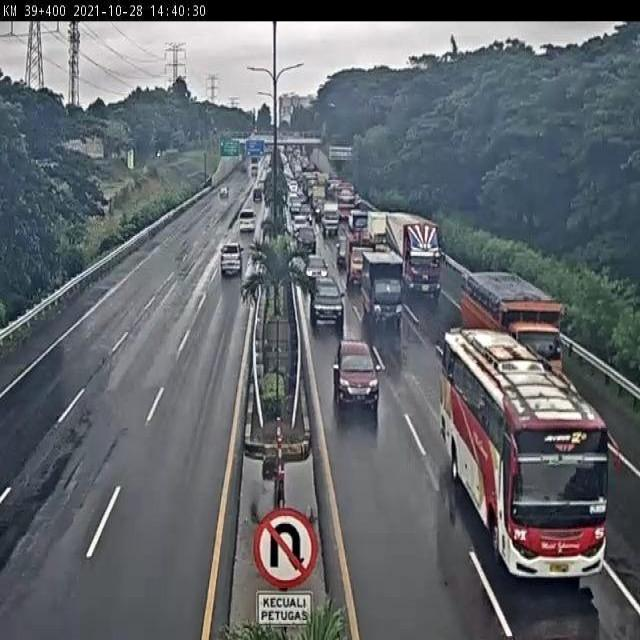big bus: (439, 321, 616, 588)
big truck: (382, 213, 450, 300)
car: (333, 339, 387, 409), (310, 273, 346, 331), (220, 237, 242, 283), (302, 254, 328, 290), (238, 207, 256, 233)
mid truck: (458, 267, 567, 388)
small truck: (355, 248, 405, 323)
